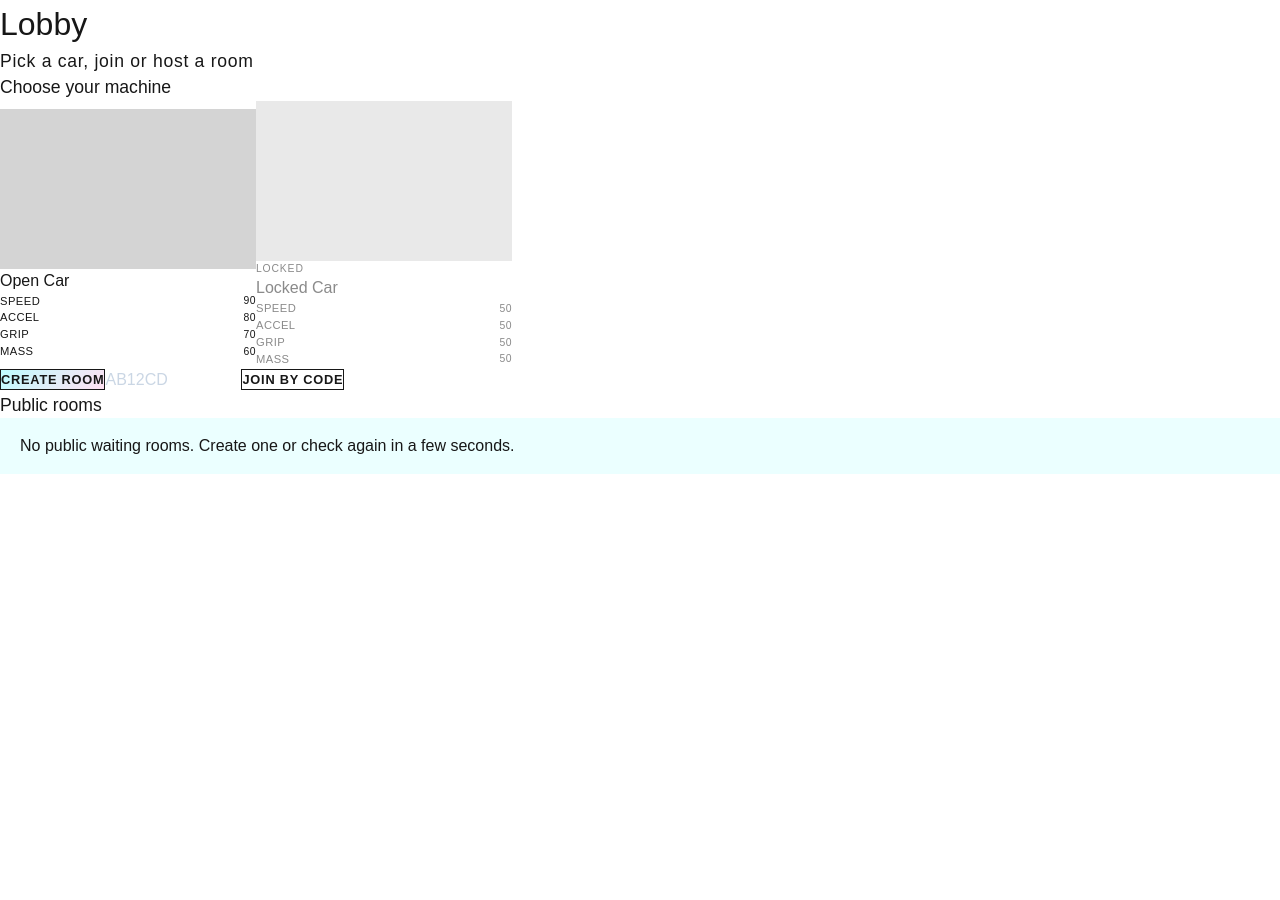
Test: LobbyClient › opens create room modal
The image size is (1280, 900).
Expected: the heading "Open Car" is shown, [0,272,69,289]
Click the button "Create Room".
click(53, 380)  # box [0,369,106,390]
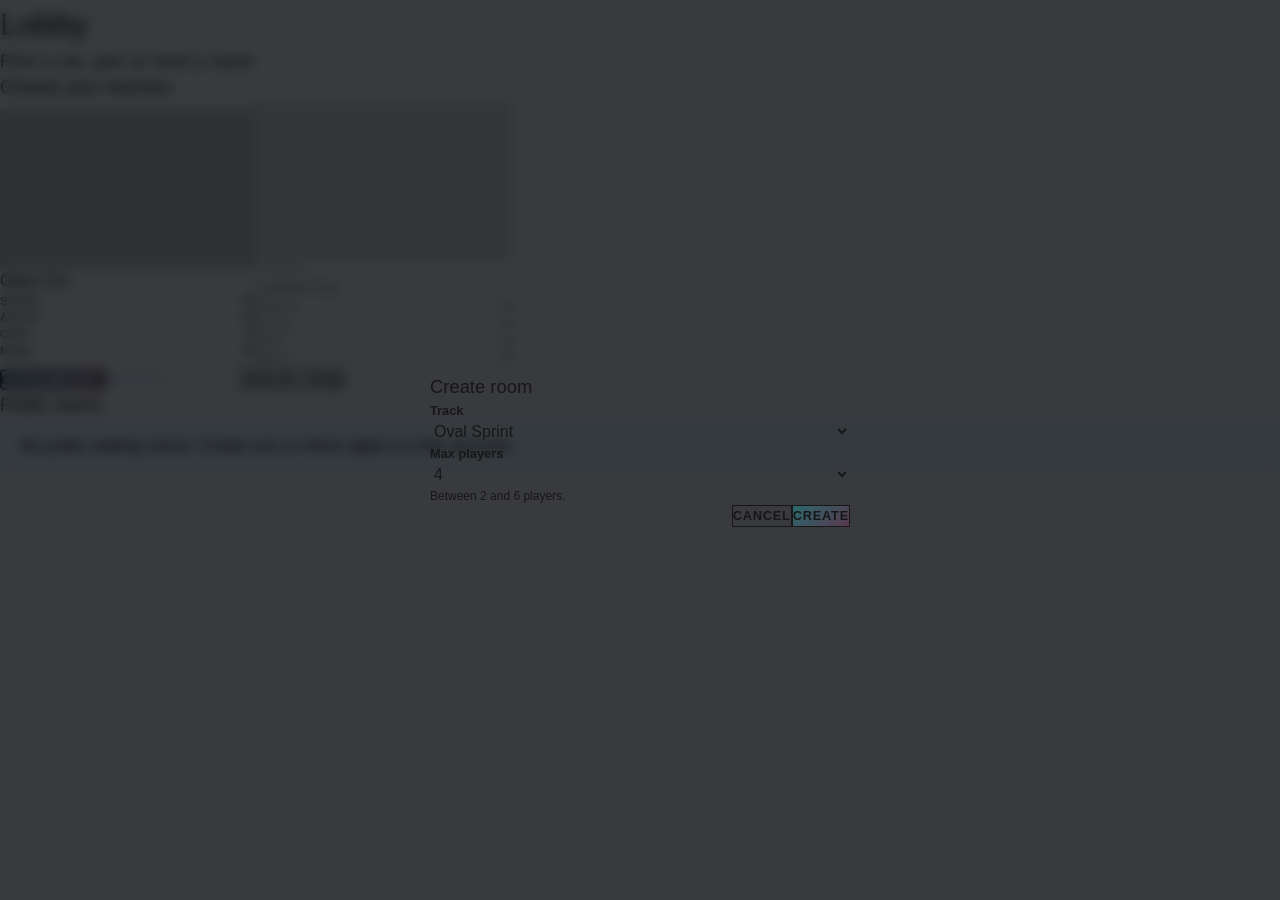
Expected: the dialog "Create room" is shown, [430,373,850,527]
Expected: the dropdown labelled "Track" is shown, [430,422,850,441]
